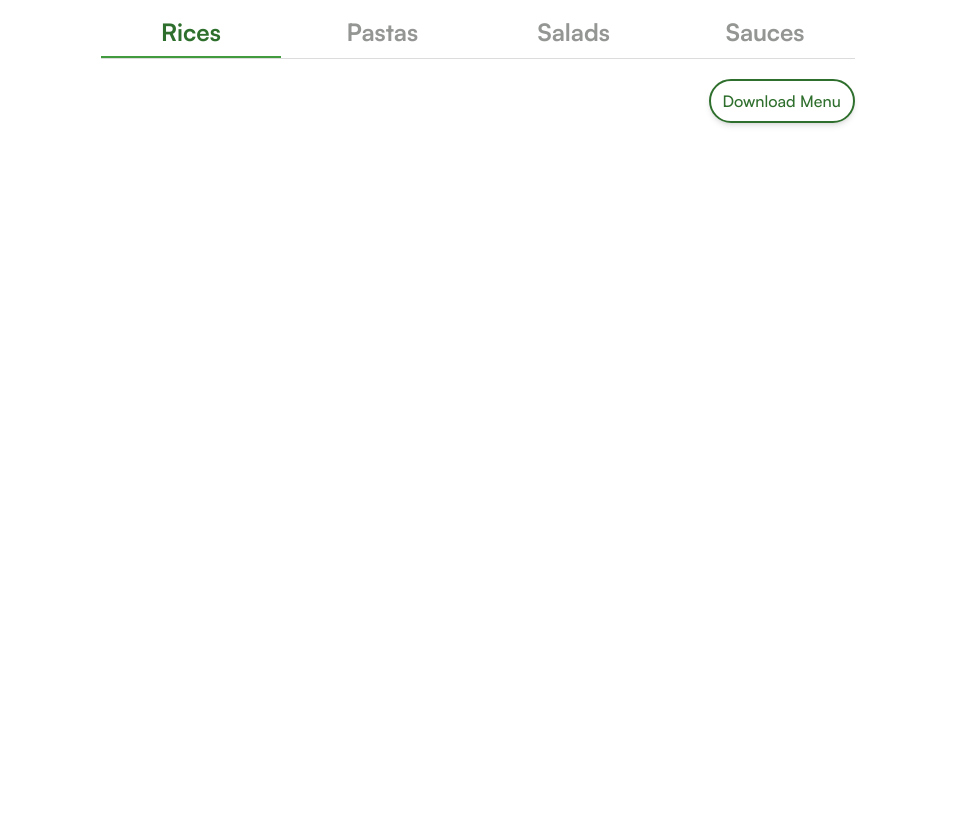
Test: MenuList Component › should update dishes when active tab changes
Click the tab "Pastas".
click(382, 32)  # box top-left (293, 16), bottom-right (472, 48)
(page scrolled)
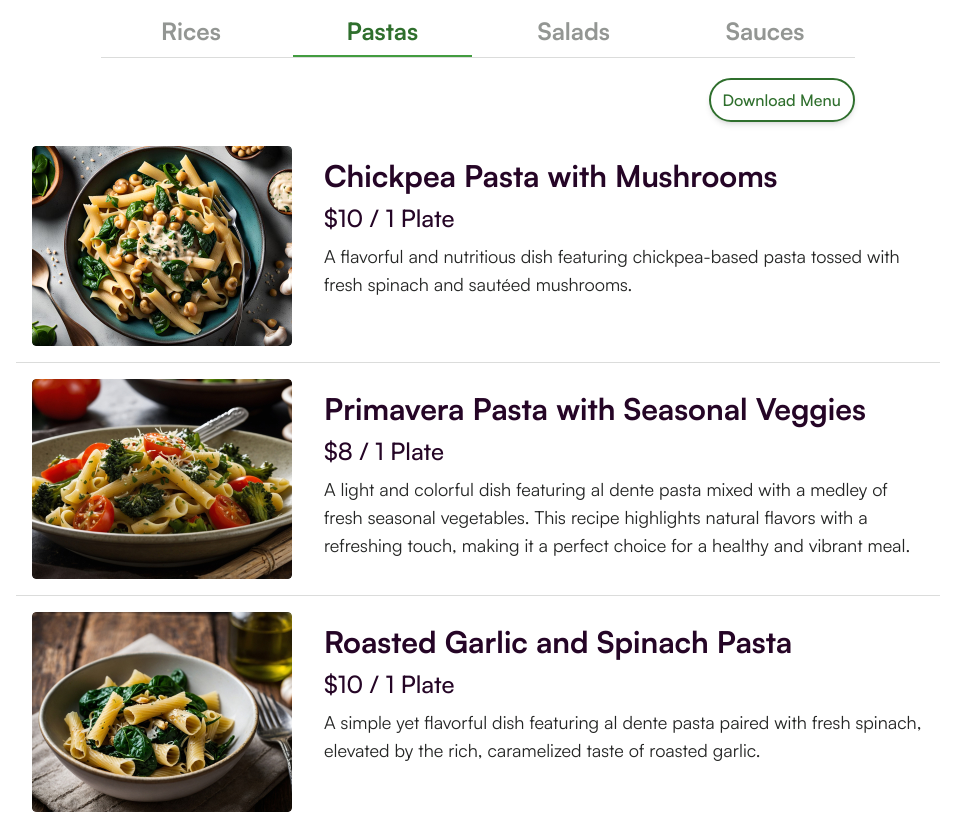
expect the heading "Chickpea Pasta with Mushrooms" is shown: met, box top-left (324, 157), bottom-right (778, 194)
expect the text "A flavorful and nutritious dish featuring chickpea-based pasta tossed with fresh spinach and sautéed mushrooms." is shown: met, box top-left (324, 245), bottom-right (900, 295)
expect the heading "Primavera Pasta with Seasonal Veggies" is shown: met, box top-left (324, 391), bottom-right (924, 427)
